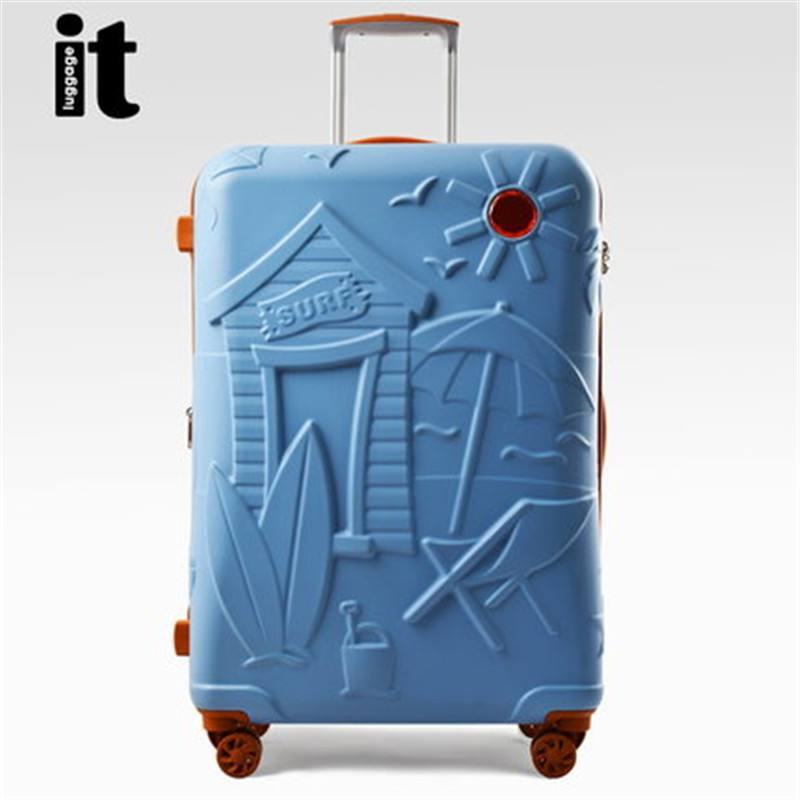box: (191, 142, 601, 723)
wheel: (215, 729, 263, 779), (530, 732, 578, 780)
